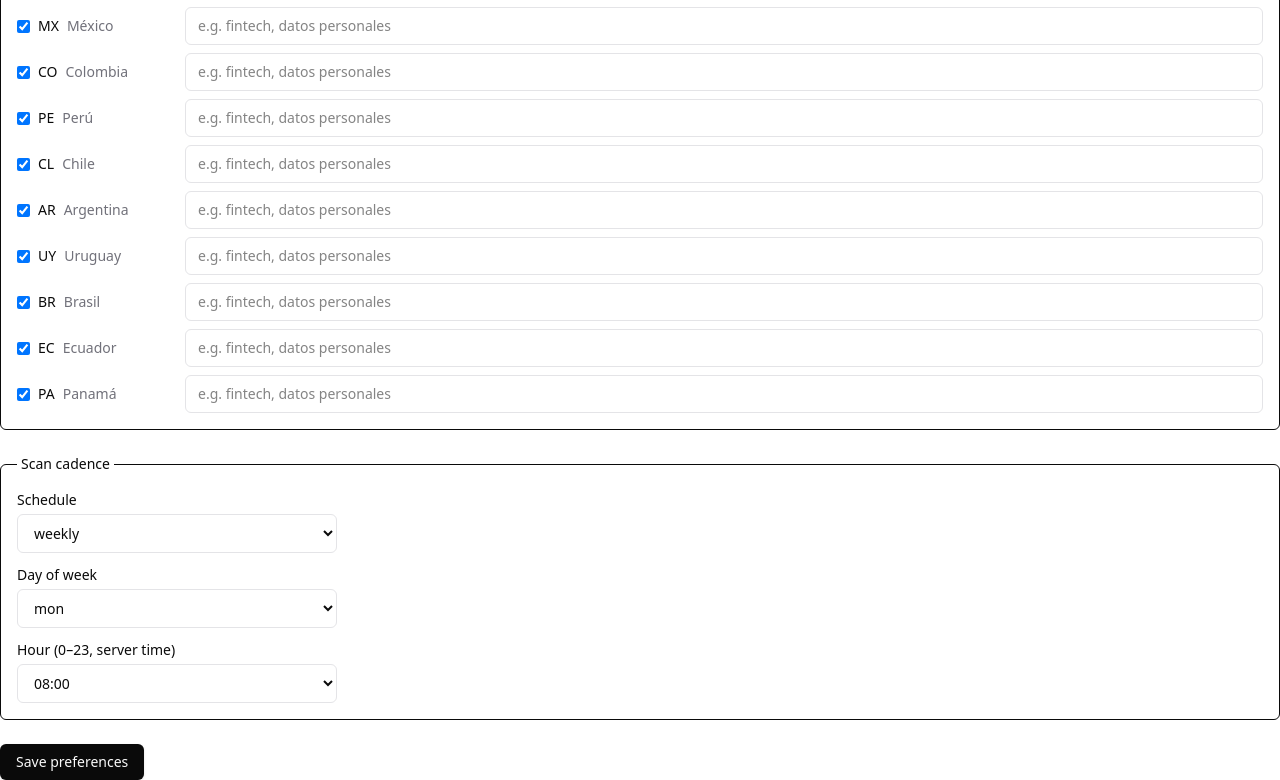
Test: <PreferencesForm> › submits the full payload on save and shows success
(page scrolled)
Click the button with test id "preferences-form-submit". click: (72, 762)
box: x1=0 y1=744 x2=144 y2=779
(page scrolled)
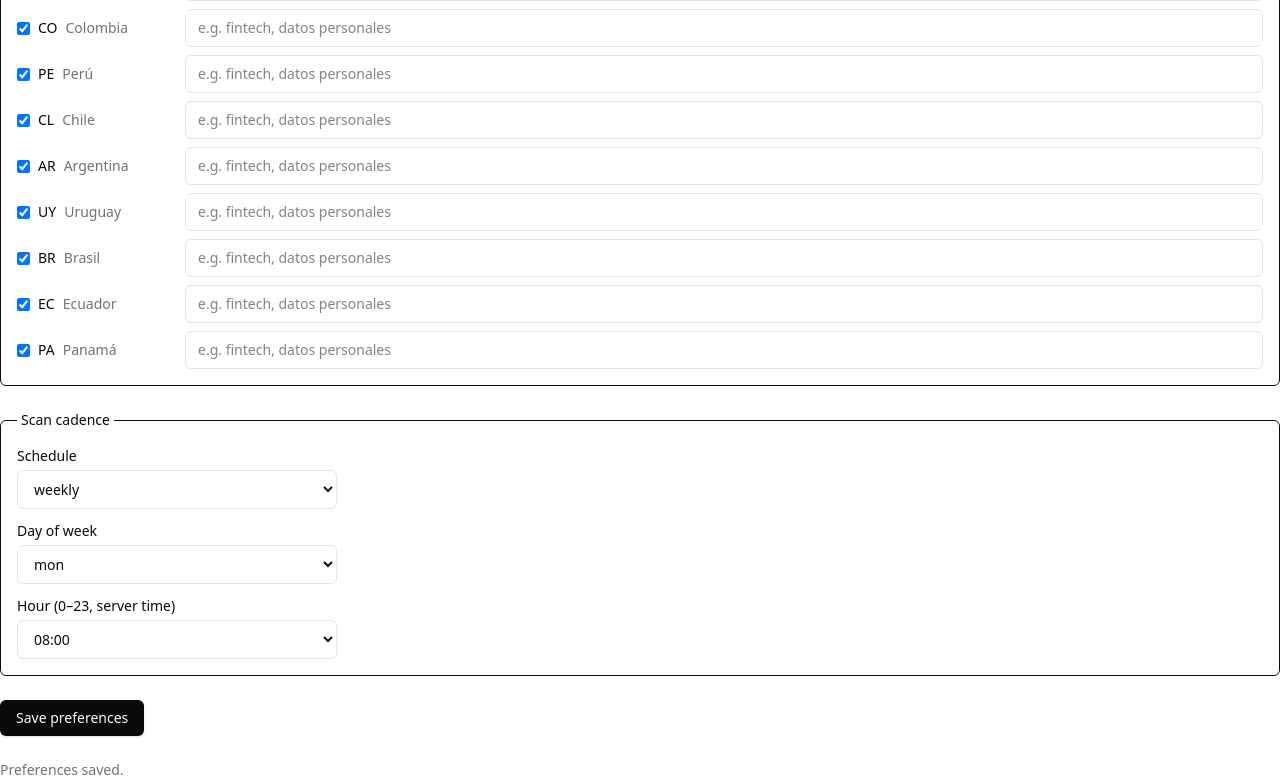
Now the message "Preferences saved." is shown, box x1=0 y1=760 x2=124 y2=779
